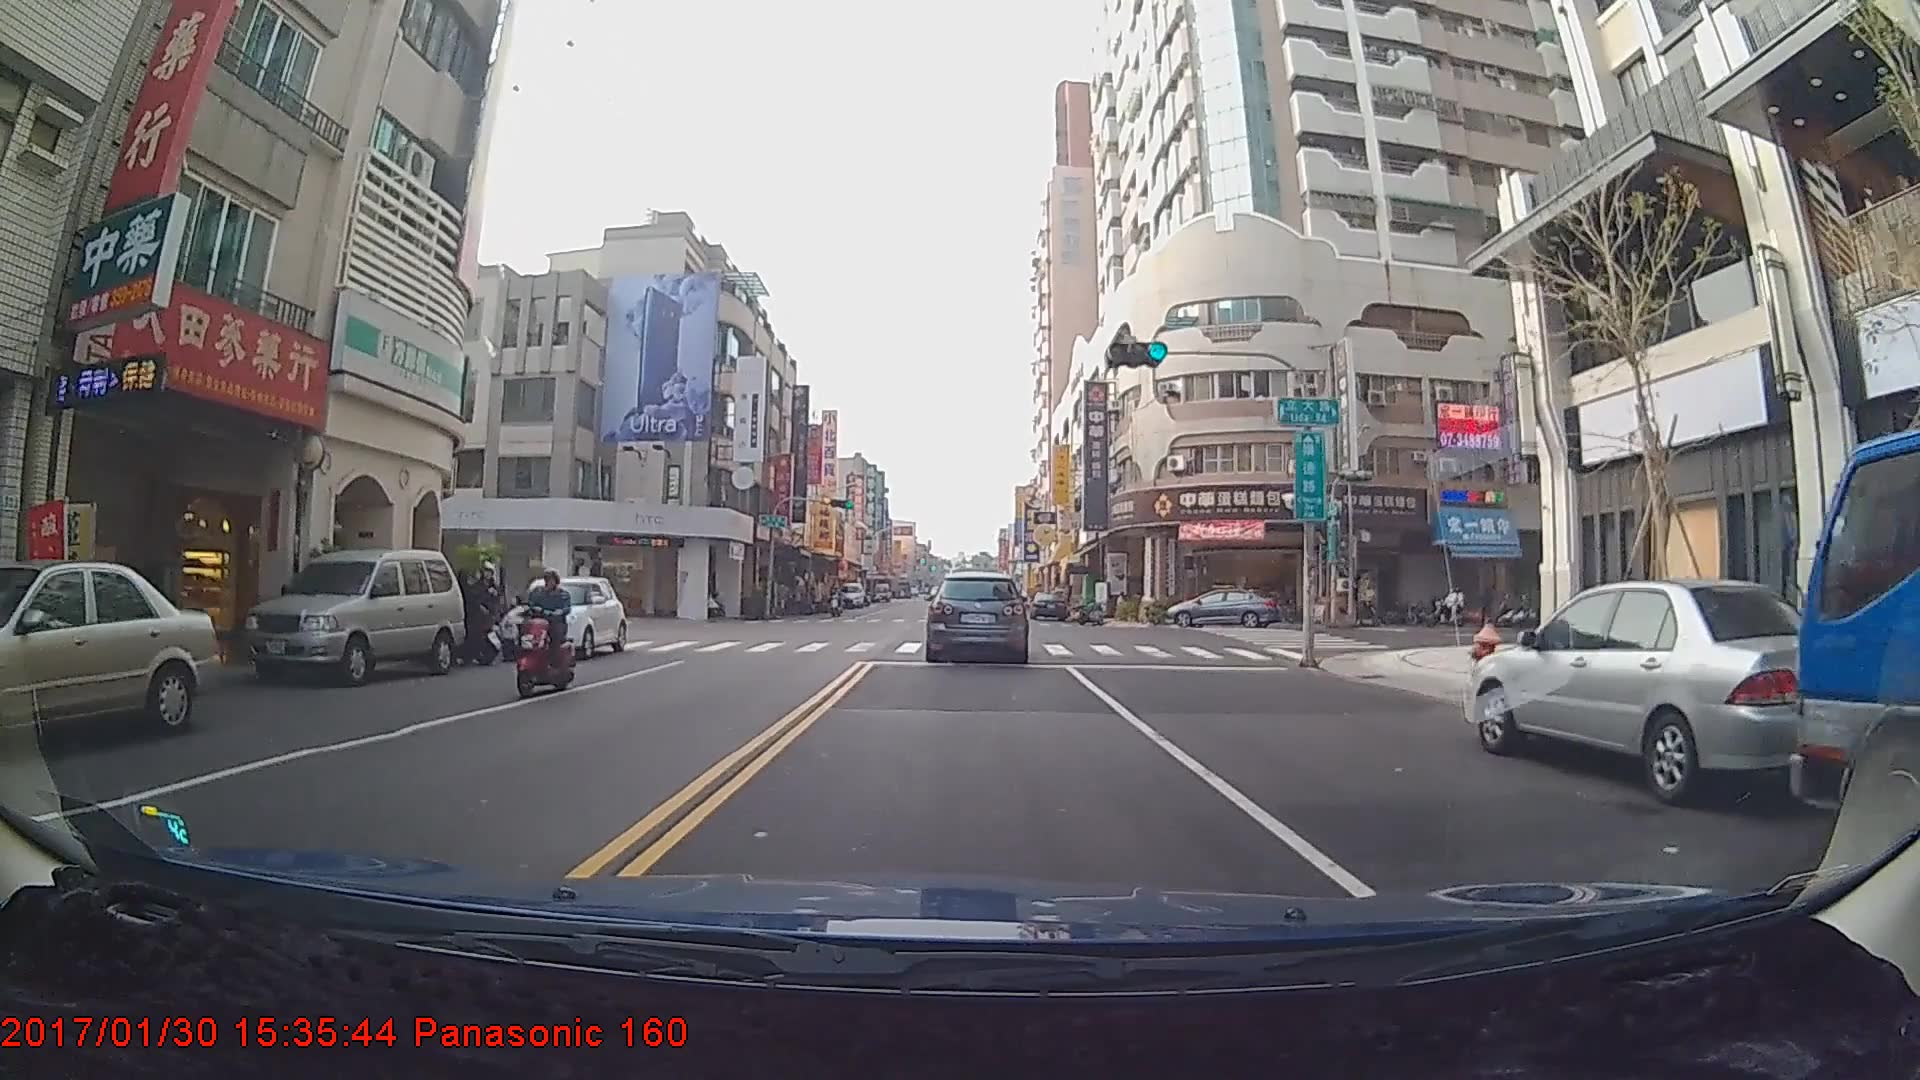rider: (507, 570, 580, 697), (1427, 582, 1475, 631), (823, 588, 848, 624)
vehicle: (1467, 578, 1861, 805), (0, 558, 224, 762), (238, 550, 465, 686), (498, 577, 621, 663), (924, 572, 1028, 661), (1161, 584, 1283, 631), (1028, 591, 1066, 619), (838, 581, 863, 609)
